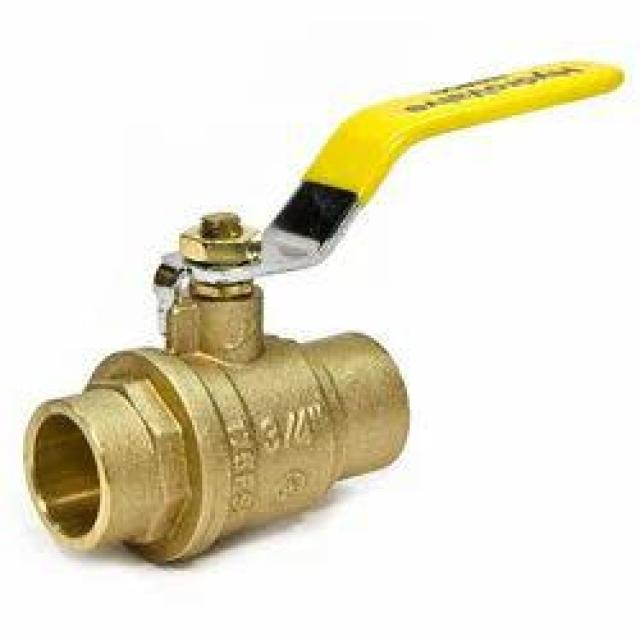opened_valve: (21, 55, 626, 571)
